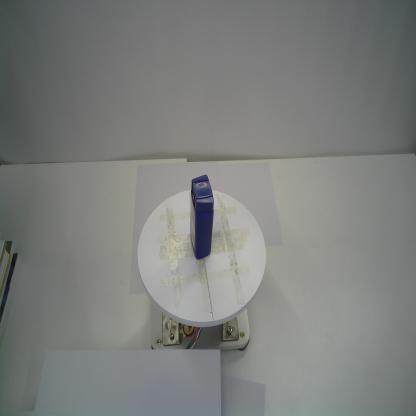Personal Hygiene: (189, 174, 214, 260)
